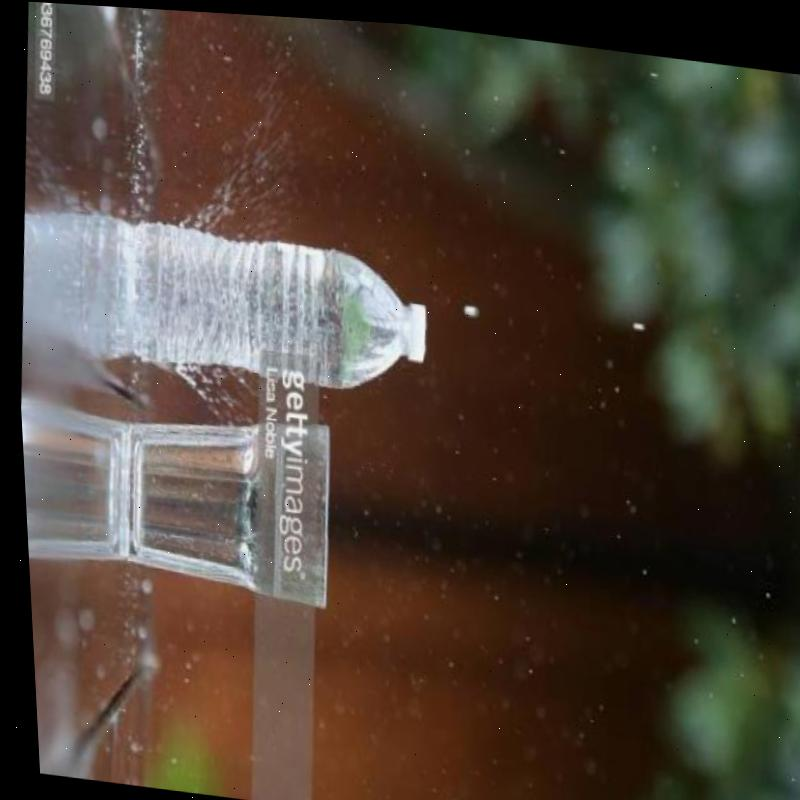botella: (105, 212, 434, 400)
